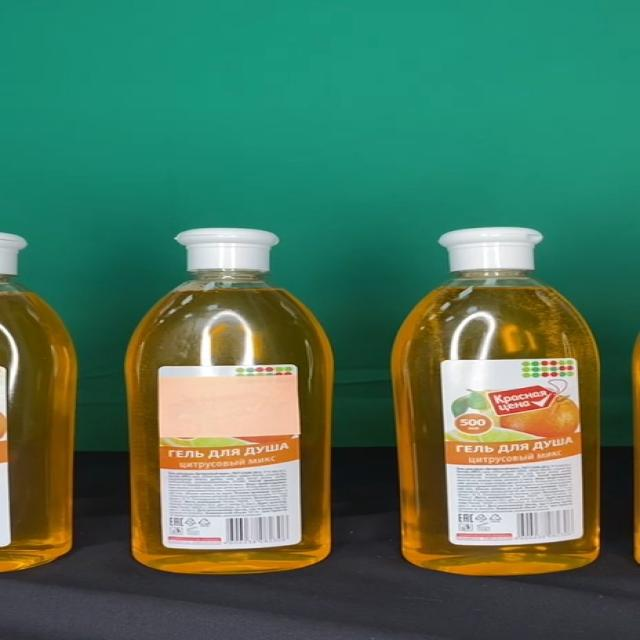Bottle: (391, 227, 600, 575), (126, 227, 334, 574)
Cap: (438, 227, 544, 272), (174, 228, 280, 270)
